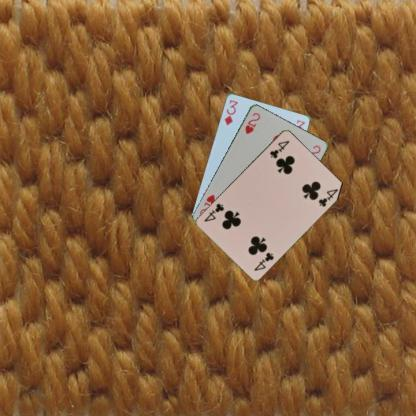2h: (242, 110, 261, 135)
3d: (221, 97, 240, 127)
4c: (267, 138, 291, 160), (251, 250, 275, 272)
